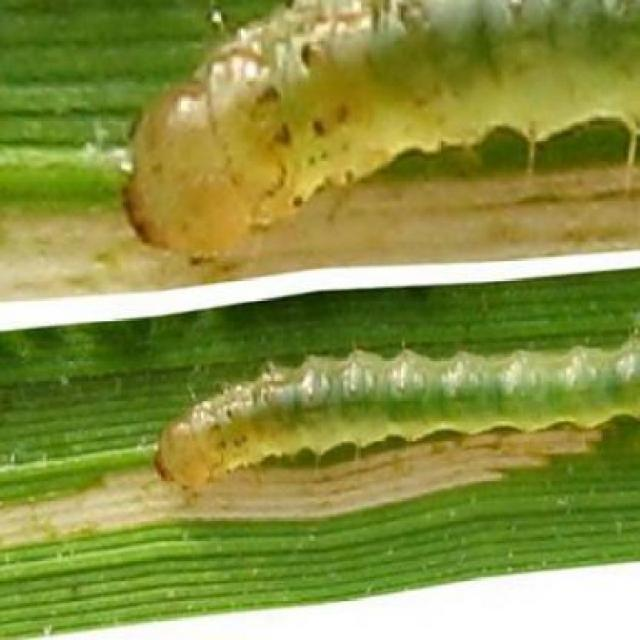leaf-folder: (127, 7, 640, 249), (141, 324, 640, 515)
